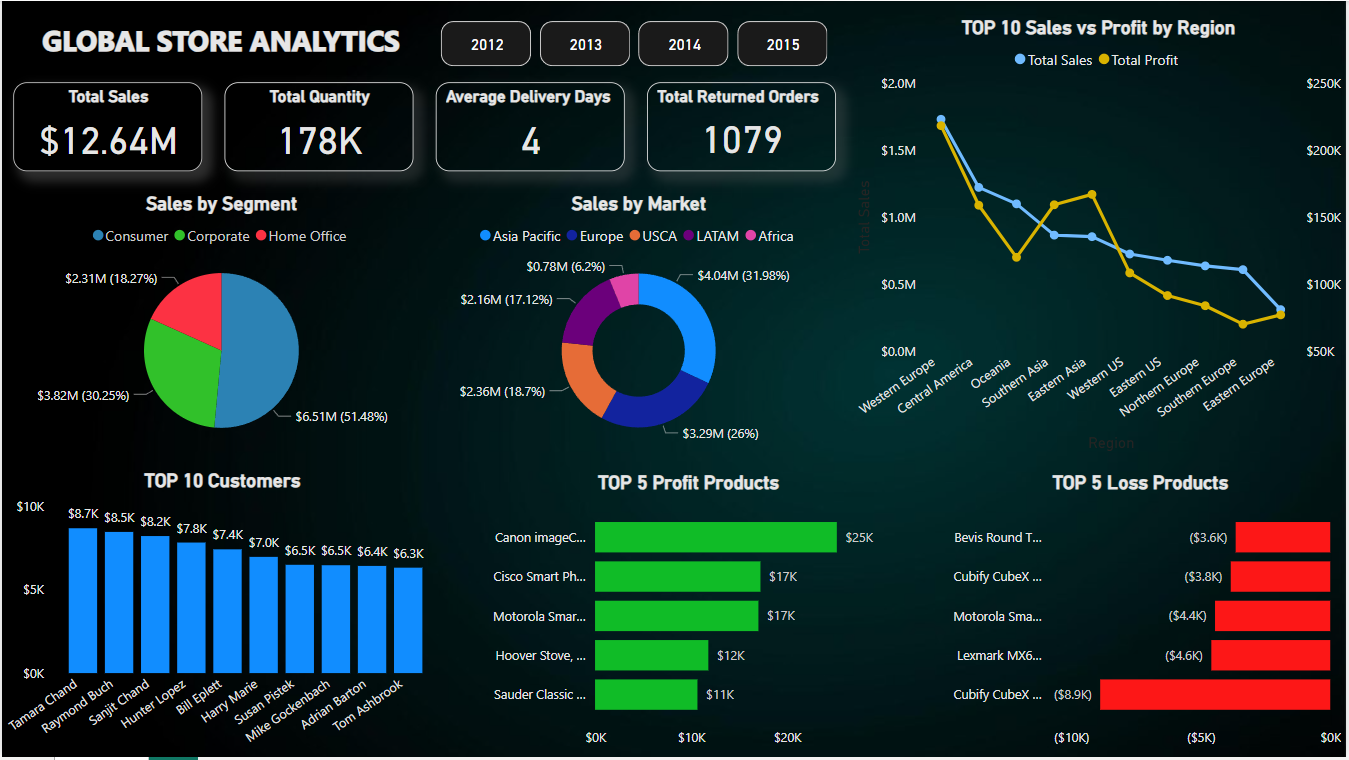

The page's visual inventory and layout, read from the dashboard file:
{"tool":"powerbi","page":{"name":"Page 1","canvas":[1280,720],"ordinal":0},"visuals":[{"type":"card","title":"Total Sales","fields":{"Values":["Orders.Sales"]},"box":[10.6,77.1,180,85],"z":0},{"type":"card","title":"Average Delivery Days","fields":{"Values":["Orders.Delivery Days"]},"box":[413,77.1,180,85],"z":1000},{"type":"card","title":"Total Quantity","fields":{"Values":["Orders.Quantity"]},"box":[211.8,77.1,180,85],"z":2000},{"type":"advancedSlicerVisual","fields":{"Values":["Orders.Year"]},"box":[413,13.7,381.5,53.5],"z":3000},{"type":"card","title":"Total Returned Orders","fields":{"Values":["Returns.Return Orders"]},"box":[614.3,77.4,179.8,84.5],"z":4000},{"type":"clusteredBarChart","title":"TOP 5 Profit Products","fields":{"Y":["Orders.Profit"],"Category":["Orders.Product Name"]},"box":[450,447.6,407.8,272.7],"z":5000},{"type":"clusteredBarChart","title":"TOP 5 Loss Products","fields":{"Category":["Orders.Product Name"],"Y":["Orders.Profit"]},"box":[887.9,447.6,392.1,272.7],"z":6000},{"type":"lineChart","title":"TOP 10 Sales vs Profit by Region","fields":{"Category":["Orders.Region"],"Y":["Orders.Sales"],"Y2":["Orders.Profit"]},"box":[808.2,13.7,472,419.9],"z":7000},{"type":"pieChart","title":"Sales by Segment","fields":{"Category":["Orders.Segment"],"Y":["Orders.Sales"]},"box":[9.6,182.5,399.3,251.1],"z":8000},{"type":"donutChart","title":"Sales by Market","fields":{"Category":["Orders.Market"],"Y":["Orders.Sales"]},"box":[419,182.1,375,251.2],"z":9000},{"type":"columnChart","title":"TOP 10 Customers","fields":{"Category":["Orders.Customer Name"],"Y":["Orders.Profit"]},"box":[0,446.4,419.8,273.9],"z":10000},{"type":"textbox","box":[9.6,13.7,403.4,53.5],"z":11000}]}

Visuals, with their boxes in screenshot pixels (x1, y1, x2, y2), scaled from the page's 1280x720 canvas onto the 1349x760 screenshot:
"Total Sales" card: crop(11, 81, 201, 171)
"Average Delivery Days" card: crop(435, 81, 625, 171)
"Total Quantity" card: crop(223, 81, 413, 171)
advancedSlicerVisual - Orders.Year: crop(435, 14, 837, 71)
"Total Returned Orders" card: crop(647, 82, 837, 171)
"TOP 5 Profit Products" clusteredBarChart: crop(474, 472, 904, 759)
"TOP 5 Loss Products" clusteredBarChart: crop(936, 472, 1348, 759)
"TOP 10 Sales vs Profit by Region" lineChart: crop(852, 14, 1348, 458)
"Sales by Segment" pieChart: crop(10, 193, 431, 458)
"Sales by Market" donutChart: crop(442, 192, 837, 457)
"TOP 10 Customers" columnChart: crop(0, 471, 442, 759)
textbox: crop(10, 14, 435, 71)
